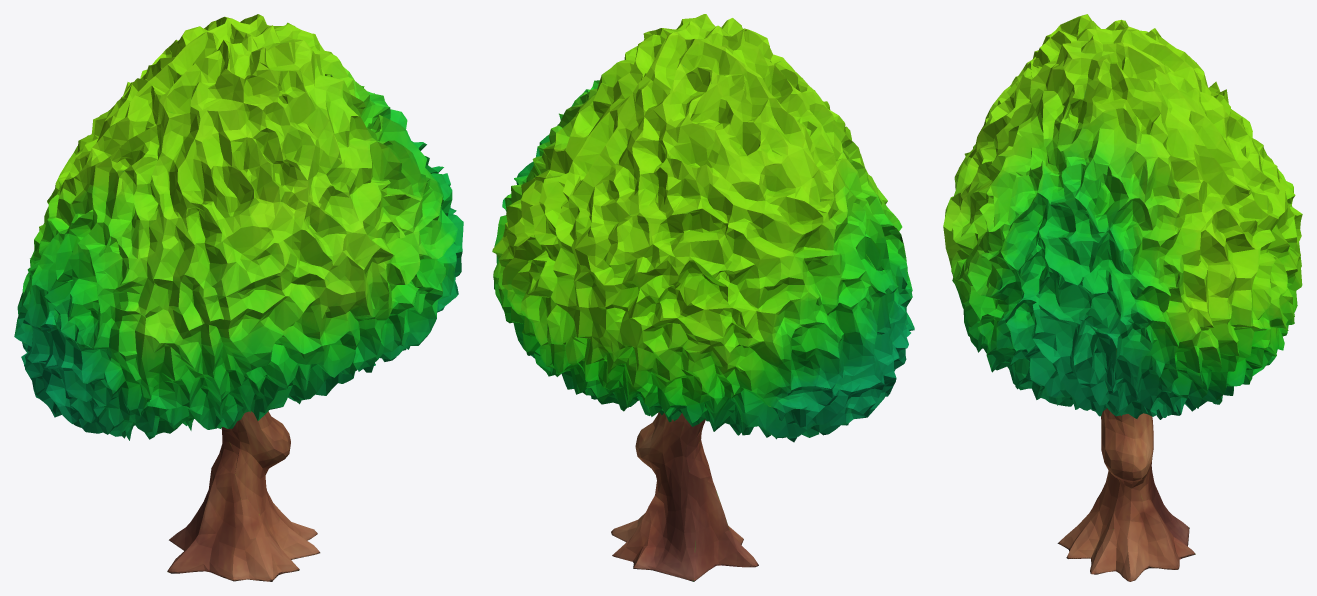
The model's file is tree1.glb.
3 renders of one model, left to right at view 1: azimuth 30°, elevation 25°; view 2: azimuth 150°, elevation 25°; view 3: azimuth 270°, elevation 25°, orthographic. The views are drawn at different scales.
Visible parts, largest first — view 1: world; view 2: world; view 3: world.
Boxes of the visible parts, x1,y1,x2,y2 form: world: [14, 14, 463, 581]; world: [492, 14, 914, 581]; world: [943, 14, 1302, 581].
Bounding box in the file's own units: 0.7895 × 1 × 0.6336.
1 material, 1 textured.
